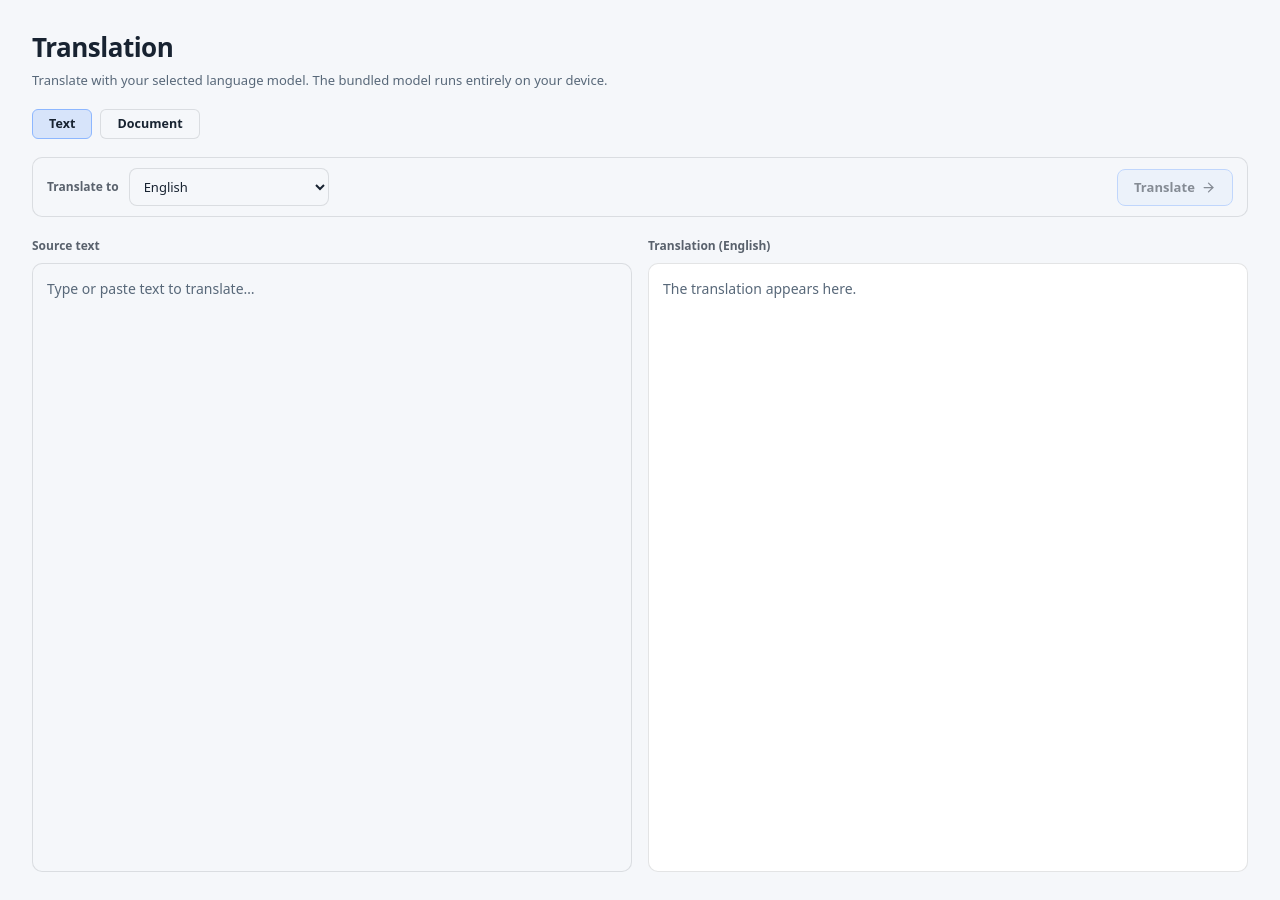
Translation workflow › retains translated output on save failure and makes a retry possible
The width and height of the screenshot is (1280, 900).
Click the tab "Document": (150,124) [100, 108, 200, 139]
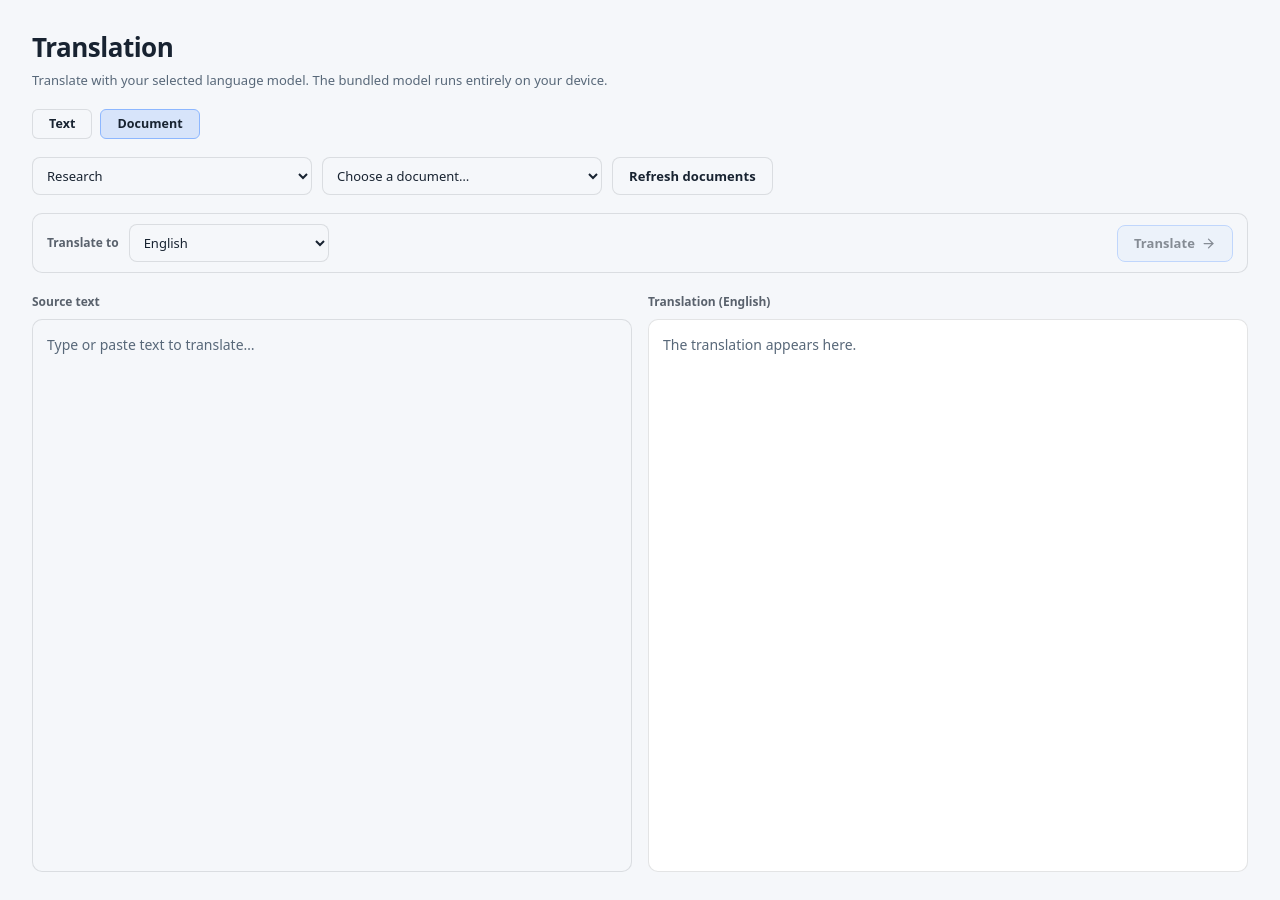
Select "Document 1" in the dropdown named "Choose a document…": (462,176) [322, 157, 602, 195]
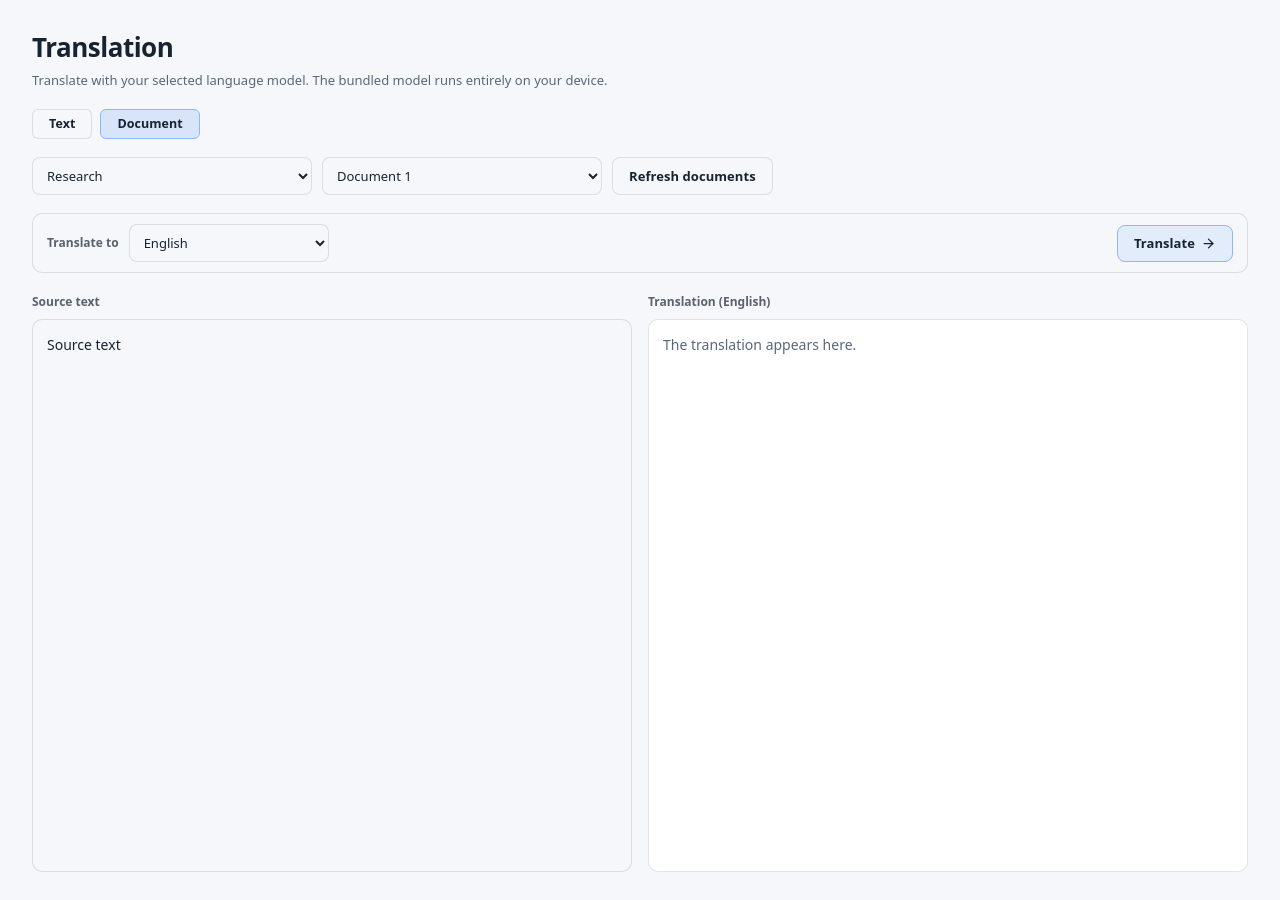
expect the button "Translate" is enabled: met
Click the button "Translate": (1175,243) [1117, 224, 1233, 262]
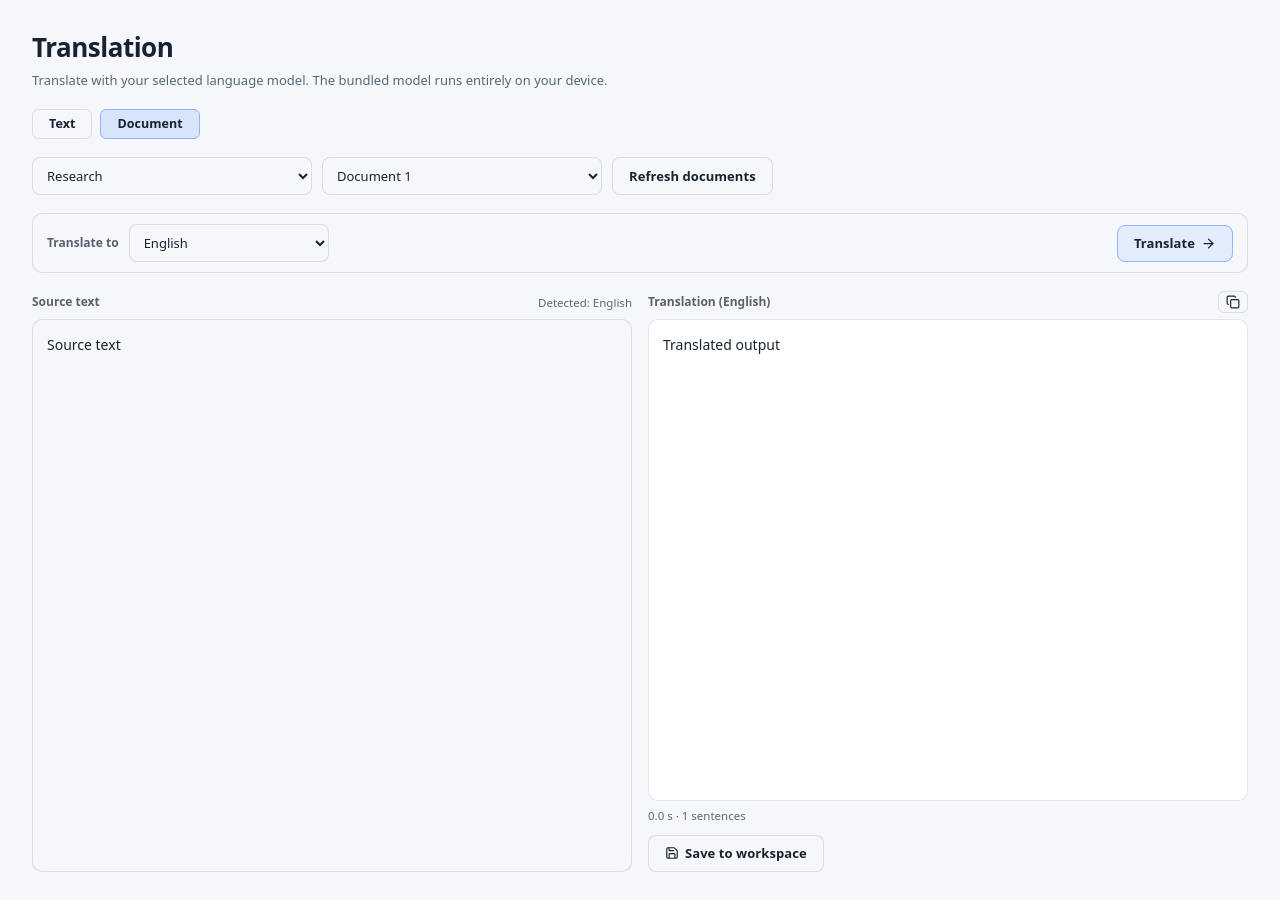
expect the text "Translated output" is shown: met, box [648, 319, 1248, 801]
Click the button "Save to workspace": (736,853) [648, 834, 824, 872]
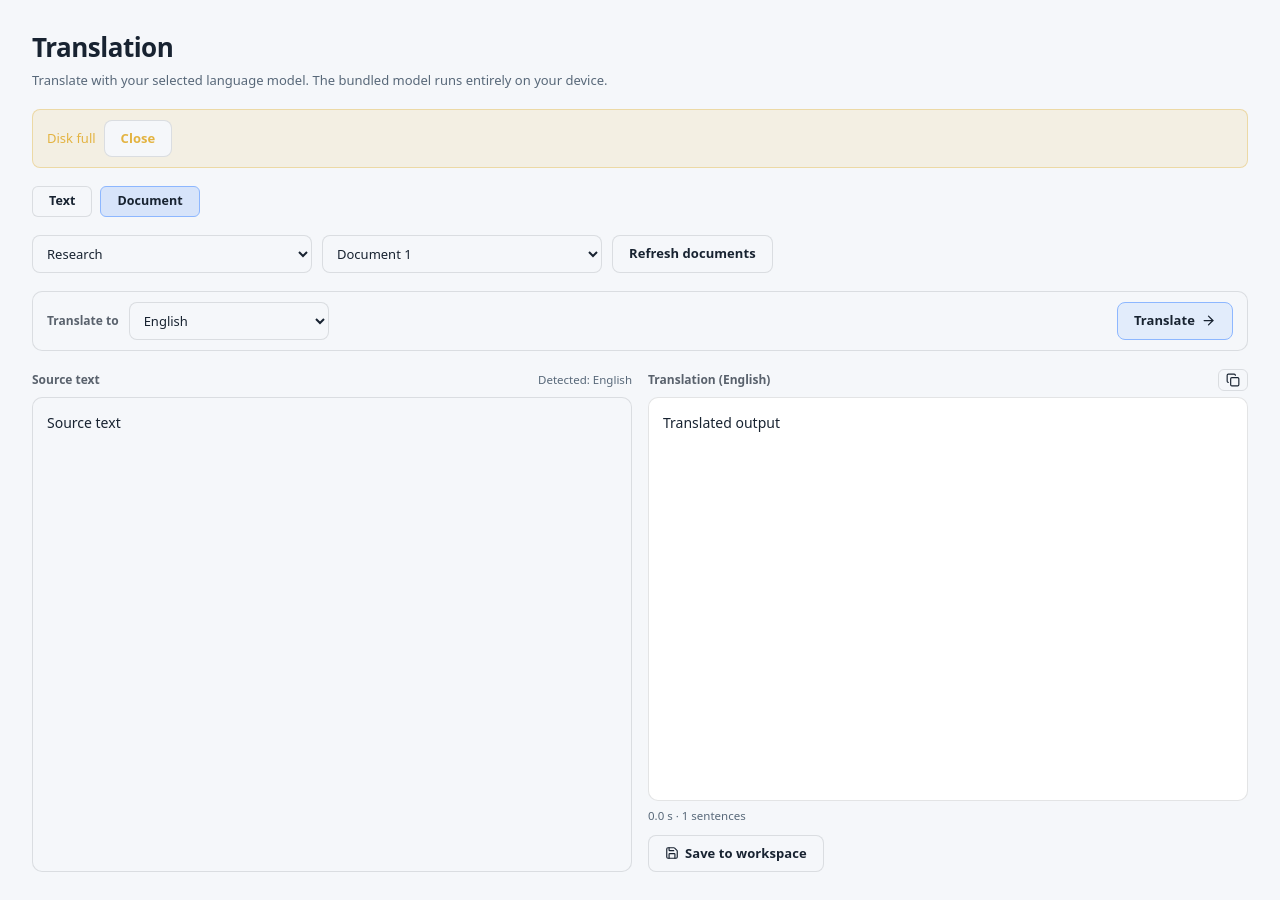
expect the text "Translated output" is shown: met, box [648, 397, 1248, 801]
expect the button "Save to workspace" is enabled: met, box [648, 834, 824, 872]
expect the message shows "Disk full": met, box [47, 128, 96, 146]
